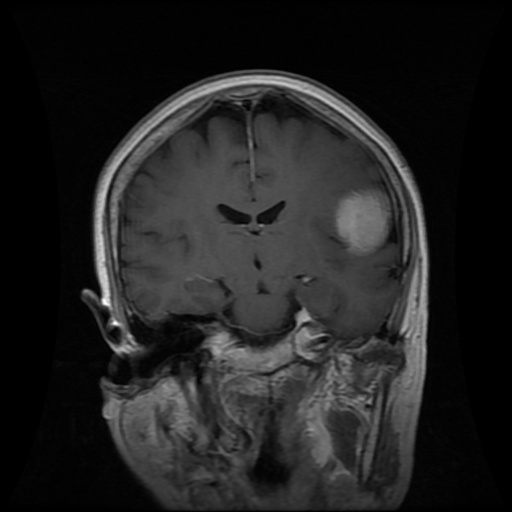meningioma: (336, 187, 392, 253)
